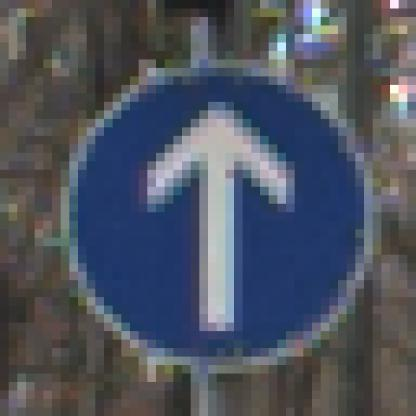straight: (68, 59, 380, 382)
